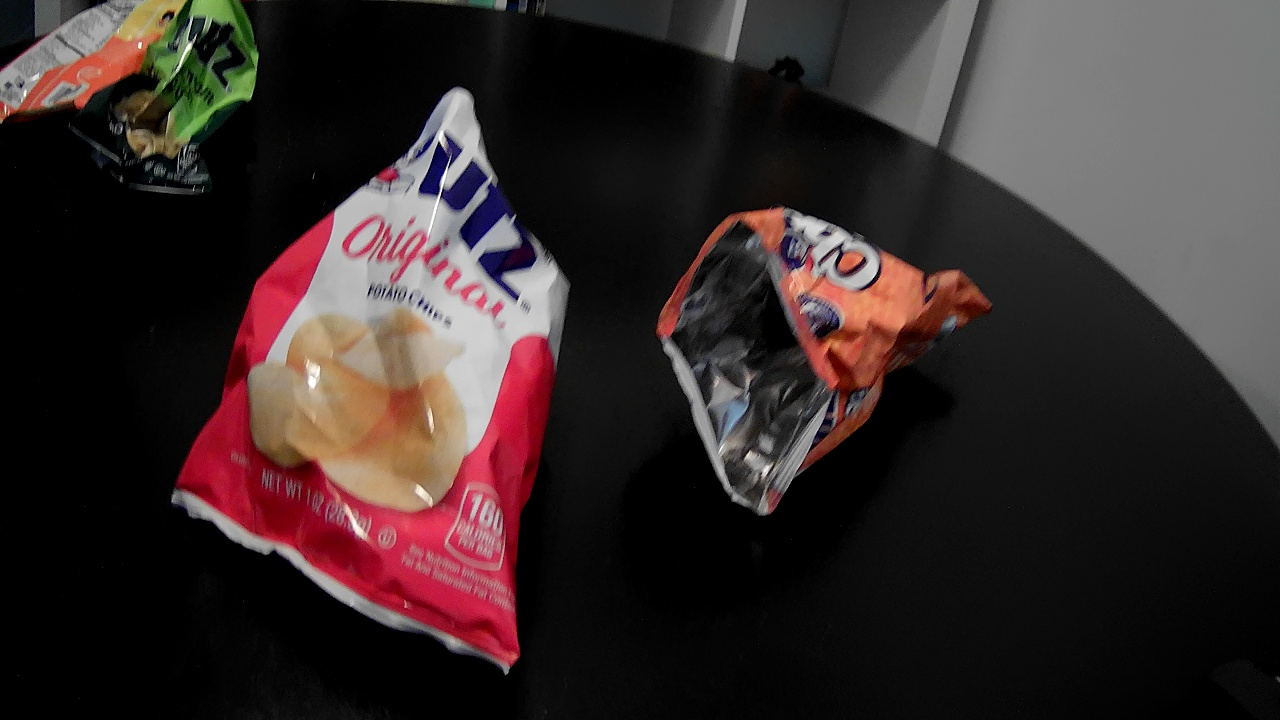trash: (176, 91, 598, 709), (648, 194, 1034, 510), (16, 0, 242, 199)
